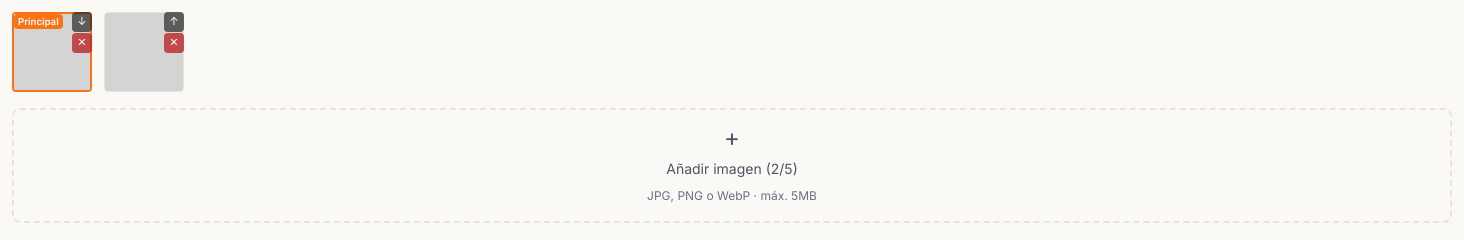
ImageGallery — eliminar imagen (flujo completo) › al hacer click en "Eliminar imagen" muestra el panel de confirmación
This screenshot has width=1464, height=240.
Click the button named "eliminar imagen" at (82, 43), box [72,33,92,53]
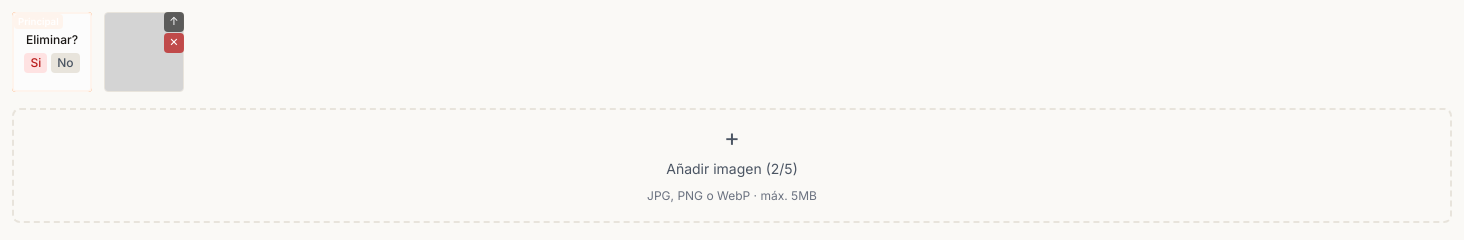
Check: the text "Eliminar?" is shown, box [26,31,78,49]
